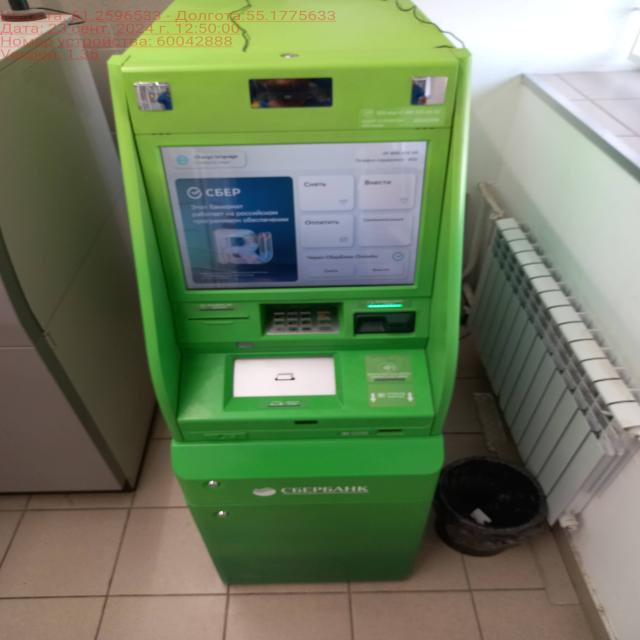bank: (105, 0, 481, 588)
